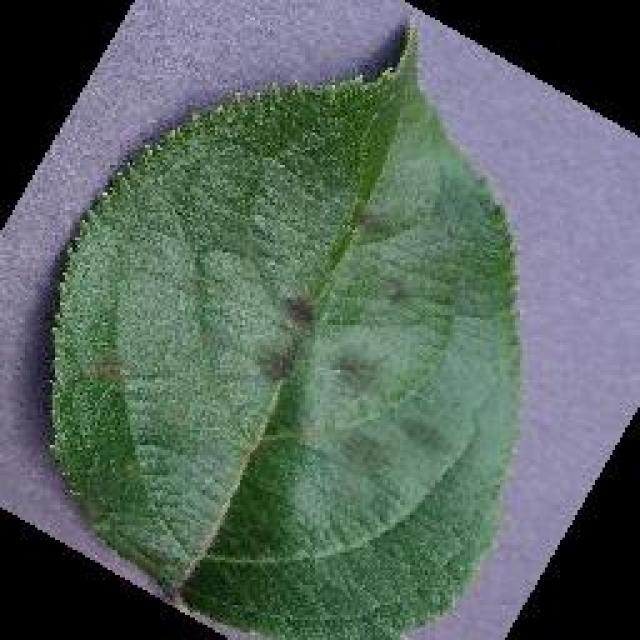apple scab disease: (43, 15, 525, 637)
